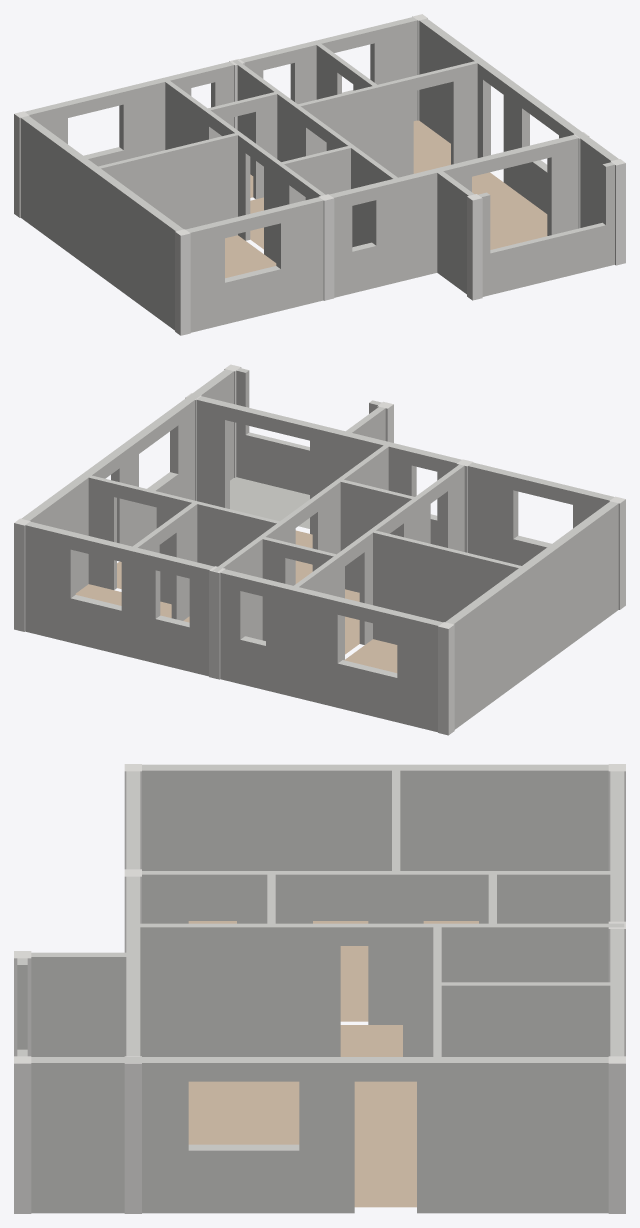
The model's file is demo.glb.
3 views of the same model, one above another, from view 1: azimuth 30°, elevation 25°; view 2: azimuth 150°, elevation 25°; view 3: azimuth 270°, elevation 25° (orthographic). The views are drawn at different scales.
Parts seen in each view (by area): view 1: wall_016, wall_021, wall_014, wall_013, wall_025, wall_039, wall_023, wall_012, wall_035, wall_040, wall_022, floor_sala_comedor (+33 smaller); view 2: wall_016, wall_021, wall_035, wall_038, wall_013, wall_036, wall_034, wall_025, wall_014, wall_052, wall_037, wall_055 (+35 smaller); view 3: wall_016, wall_023, wall_011, wall_006, wall_022, floor_sala_comedor, wall_044, wall_005, wall_019, wall_027, wall_020, wall_030 (+26 smaller).
Boxes of the visible parts, x1=… form: wall_016: x1=20, y1=116, x2=183, y2=330; wall_021: x1=98, y1=133, x2=237, y2=238; wall_014: x1=372, y1=161, x2=471, y2=287; wall_013: x1=276, y1=190, x2=352, y2=310; wall_025: x1=298, y1=77, x2=413, y2=177; wall_039: x1=490, y1=222, x2=605, y2=294; wall_023: x1=419, y1=18, x2=490, y2=157; wall_012: x1=186, y1=221, x2=224, y2=332; wall_035: x1=119, y1=72, x2=191, y2=159; wall_040: x1=221, y1=207, x2=280, y2=324; wall_022: x1=233, y1=60, x2=310, y2=175; floor_sala_comedor: x1=472, y1=172, x2=547, y2=249; wall_016: x1=445, y1=501, x2=618, y2=729; wall_021: x1=373, y1=530, x2=521, y2=644; wall_035: x1=265, y1=580, x2=342, y2=707; wall_038: x1=25, y1=521, x2=75, y2=642; wall_013: x1=437, y1=455, x2=518, y2=563; wall_036: x1=189, y1=561, x2=245, y2=683; wall_034: x1=397, y1=612, x2=442, y2=732; wall_025: x1=156, y1=492, x2=279, y2=604; wall_014: x1=310, y1=424, x2=416, y2=534; wall_052: x1=338, y1=598, x2=401, y2=722; wall_037: x1=121, y1=545, x2=160, y2=663; wall_055: x1=70, y1=533, x2=125, y2=654; wall_016: x1=142, y1=764, x2=608, y2=920; wall_023: x1=416, y1=1057, x2=608, y2=1213; wall_011: x1=126, y1=923, x2=340, y2=1056; wall_006: x1=31, y1=1057, x2=188, y2=1213; wall_022: x1=403, y1=923, x2=624, y2=1056; floor_sala_comedor: x1=188, y1=1081, x2=416, y2=1207; wall_044: x1=188, y1=1057, x2=299, y2=1213; wall_005: x1=31, y1=952, x2=140, y2=1056; wall_019: x1=299, y1=1057, x2=354, y2=1213; wall_027: x1=479, y1=871, x2=624, y2=923; wall_020: x1=368, y1=871, x2=423, y2=1024; wall_030: x1=548, y1=982, x2=624, y2=1056.
Size of the model in its own units: 10.25 by 2.4 by 8.85.
